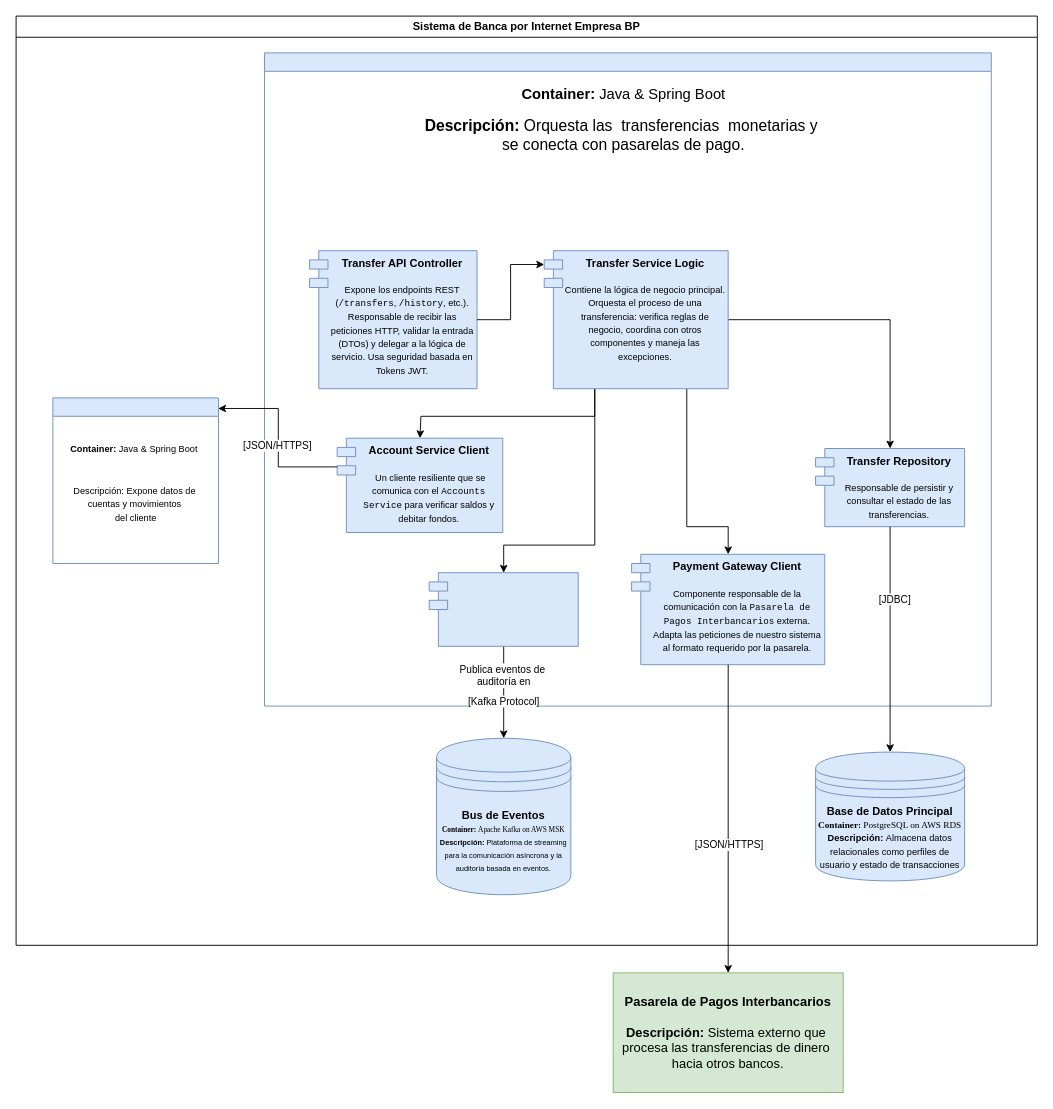
Some shapes in this 1053 by 1109 pixel diagram are drawn without their labels. The box of each missing label's shape, as (x1, y1, x2, y2) in pixels:
Accounts Service: (52, 397, 218, 564)
Audit Event Producer Encargado de crear y publicar eventos de dominio.: (428, 572, 578, 646)
Transfers Service: (264, 52, 991, 706)
